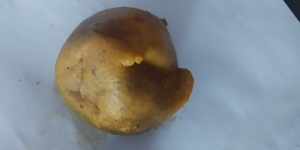BAD: (53, 6, 193, 137)
